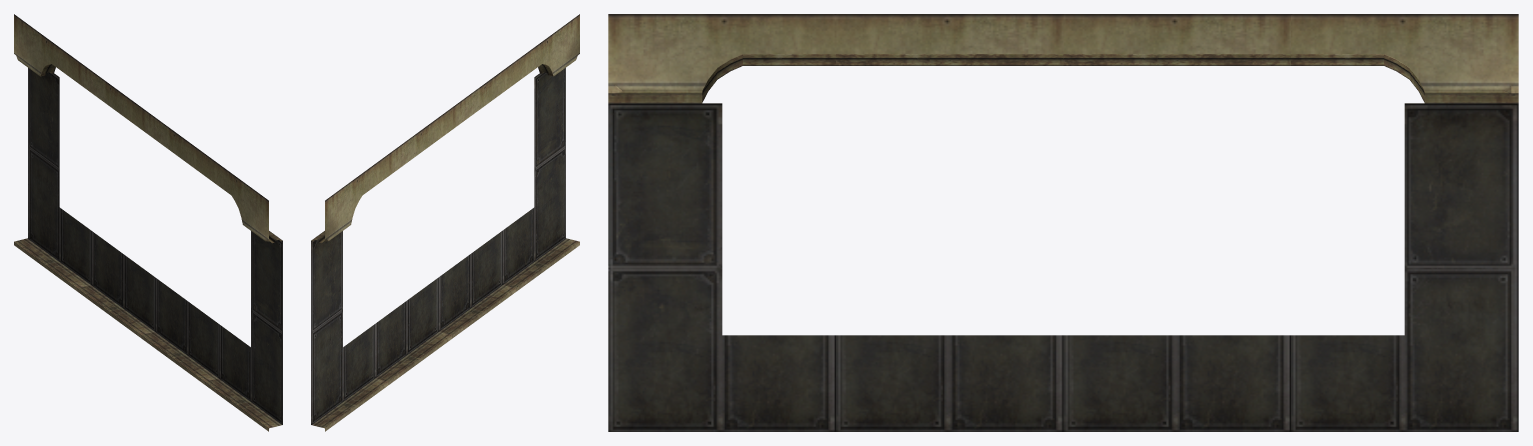
The model's file is pplant_ground_window_large.dae.
The picture shows the model from 3 angles, left to right: view 1: azimuth 30°, elevation 25°; view 2: azimuth 150°, elevation 25°; view 3: azimuth 270°, elevation 25°; orthographic projection. The views are drawn at different scales.
Visible parts, largest first — view 1: ground_window_large; view 2: ground_window_large; view 3: ground_window_large.
Boxes of the visible parts, left/top/right/bottom form: ground_window_large: left=14, top=14, right=282, bottom=431; ground_window_large: left=311, top=14, right=579, bottom=431; ground_window_large: left=608, top=14, right=1518, bottom=431.
Size of the model in its own units: 0.25 by 4 by 8.
